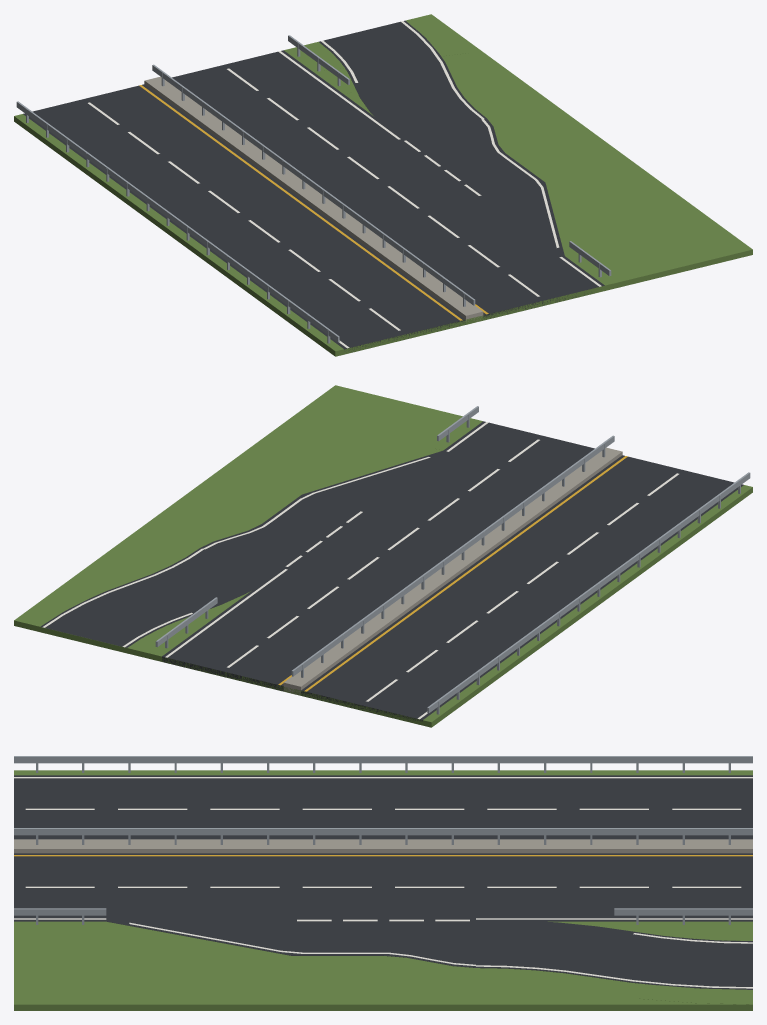
Rendered from Highway_OffRamp_Diverge_32m.glb.
3 views of the same model, one above another, from view 1: azimuth 30°, elevation 25°; view 2: azimuth 150°, elevation 25°; view 3: azimuth 270°, elevation 25° (orthographic). The views are drawn at different scales.
Parts seen in each view (by area): view 1: Highway_OffRamp_Diverge_32m_Asphalt, Highway_OffRamp_Diverge_32m_Grass-edge, Highway_OffRamp_Diverge_32m_Metal, Highway_OffRamp_Diverge_32m_Concrete, Highway_OffRamp_Diverge_32m_PaintWhite, Highway_OffRamp_Diverge_32m_PaintYellow; view 2: Highway_OffRamp_Diverge_32m_Asphalt, Highway_OffRamp_Diverge_32m_Grass-edge, Highway_OffRamp_Diverge_32m_Metal, Highway_OffRamp_Diverge_32m_Concrete, Highway_OffRamp_Diverge_32m_PaintWhite, Highway_OffRamp_Diverge_32m_PaintYellow; view 3: Highway_OffRamp_Diverge_32m_Asphalt, Highway_OffRamp_Diverge_32m_Grass-edge, Highway_OffRamp_Diverge_32m_Metal, Highway_OffRamp_Diverge_32m_Concrete, Highway_OffRamp_Diverge_32m_PaintWhite, Highway_OffRamp_Diverge_32m_PaintYellow.
Part boxes in pixels (x1,y1,x2,y2): Highway_OffRamp_Diverge_32m_Asphalt: (23, 20, 604, 352); Highway_OffRamp_Diverge_32m_Grass-edge: (14, 14, 752, 356); Highway_OffRamp_Diverge_32m_Metal: (16, 35, 611, 343); Highway_OffRamp_Diverge_32m_Concrete: (144, 76, 483, 321); Highway_OffRamp_Diverge_32m_PaintWhite: (88, 21, 601, 348); Highway_OffRamp_Diverge_32m_PaintYellow: (139, 85, 488, 320); Highway_OffRamp_Diverge_32m_Asphalt: (40, 421, 743, 721); Highway_OffRamp_Diverge_32m_Grass-edge: (14, 385, 752, 727); Highway_OffRamp_Diverge_32m_Metal: (155, 406, 750, 714); Highway_OffRamp_Diverge_32m_Concrete: (283, 447, 622, 695); Highway_OffRamp_Diverge_32m_PaintWhite: (42, 422, 678, 719); Highway_OffRamp_Diverge_32m_PaintYellow: (278, 456, 627, 691); Highway_OffRamp_Diverge_32m_Asphalt: (14, 775, 752, 989); Highway_OffRamp_Diverge_32m_Grass-edge: (14, 770, 752, 1010); Highway_OffRamp_Diverge_32m_Metal: (14, 756, 752, 924); Highway_OffRamp_Diverge_32m_Concrete: (14, 839, 752, 853); Highway_OffRamp_Diverge_32m_PaintWhite: (14, 777, 752, 988); Highway_OffRamp_Diverge_32m_PaintYellow: (14, 855, 752, 856).
Bounding box in the file's own units: 24 × 1.25 × 32.
